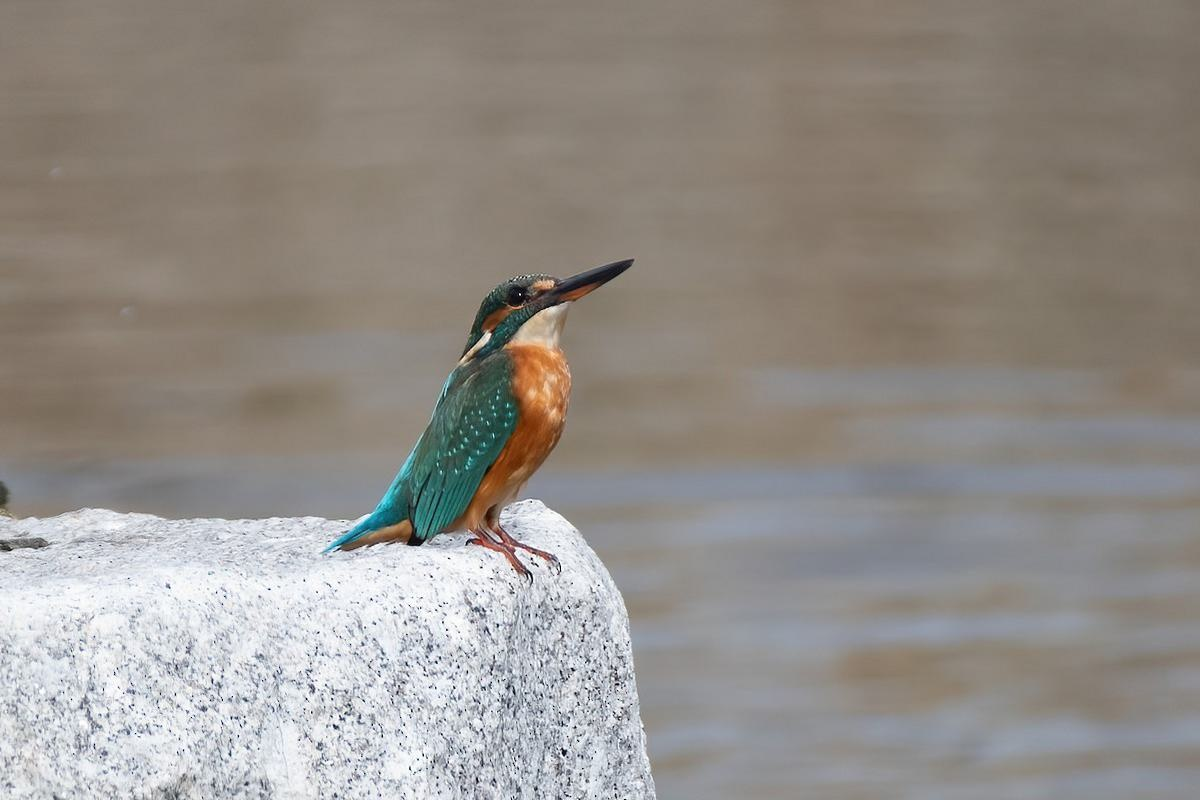kingfisher: (353, 230, 649, 580)
